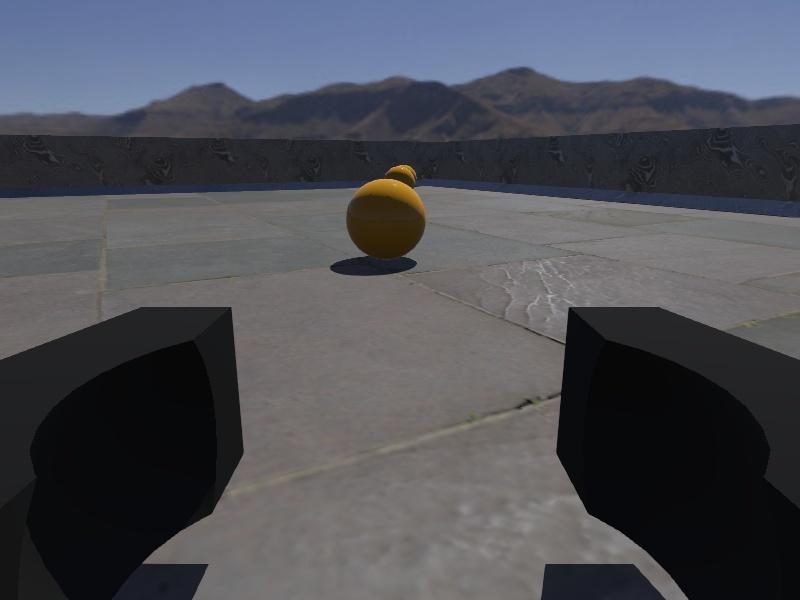orange ball: (345, 178, 428, 262)
